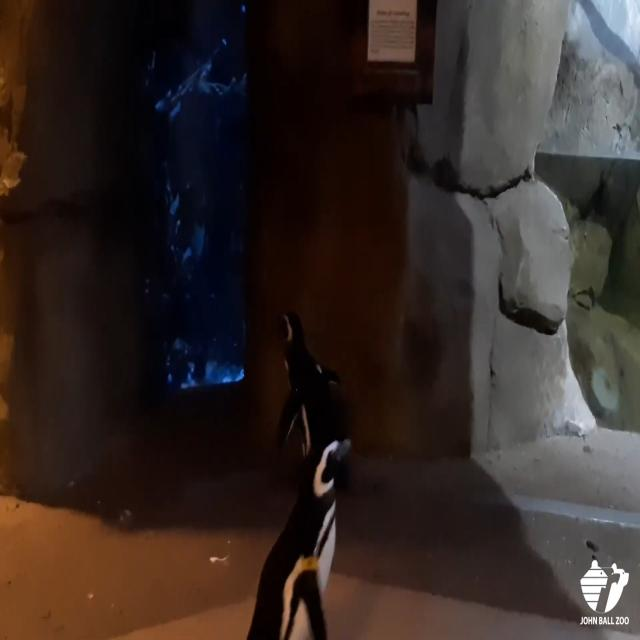penguin: (245, 432, 354, 640), (273, 310, 345, 482)
